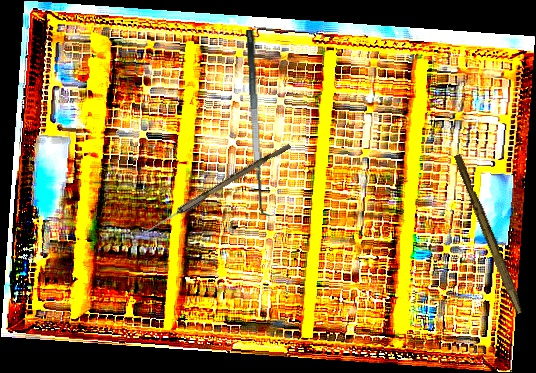Scalpel Handle: (450, 153, 528, 315)
Spatula Surgical: (244, 29, 277, 217)
Surgical Spoon: (139, 139, 292, 240)
